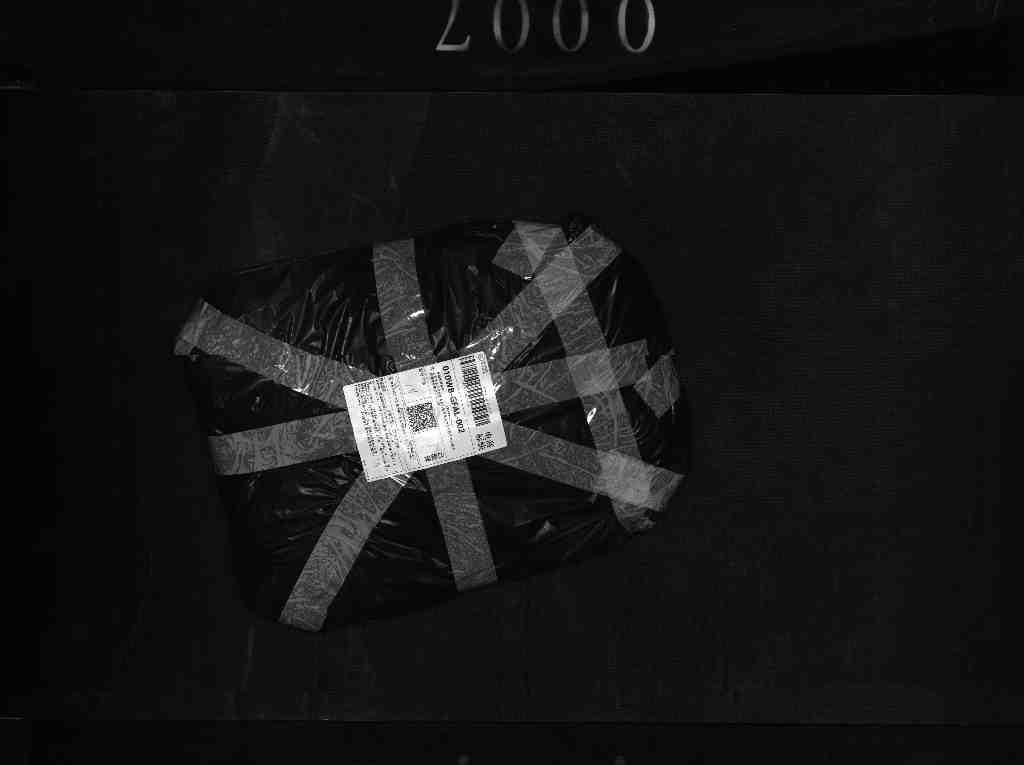box: (156, 207, 699, 649)
